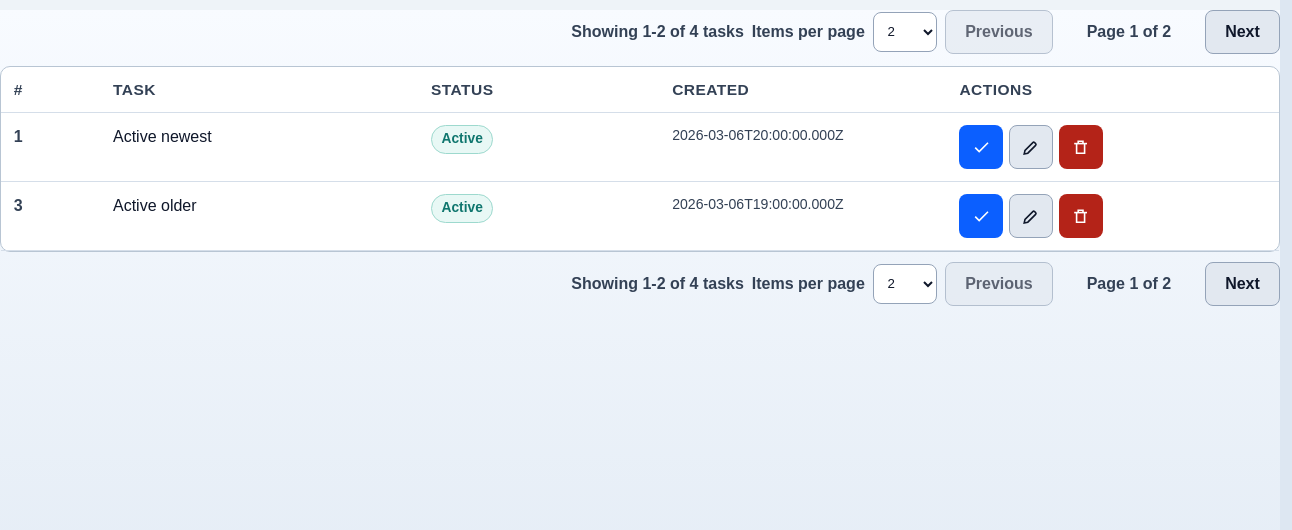
Scenario: TodoList › keeps actionable ordering deterministic within paginated results
expect the text "Active newest" is shown: met, box top-left (113, 128), bottom-right (212, 145)
expect the text "Active older" is shown: met, box top-left (113, 197), bottom-right (197, 214)
Click the button with aria-label "Next page" at point(1242, 32), box top-left (1205, 10), bottom-right (1280, 54)
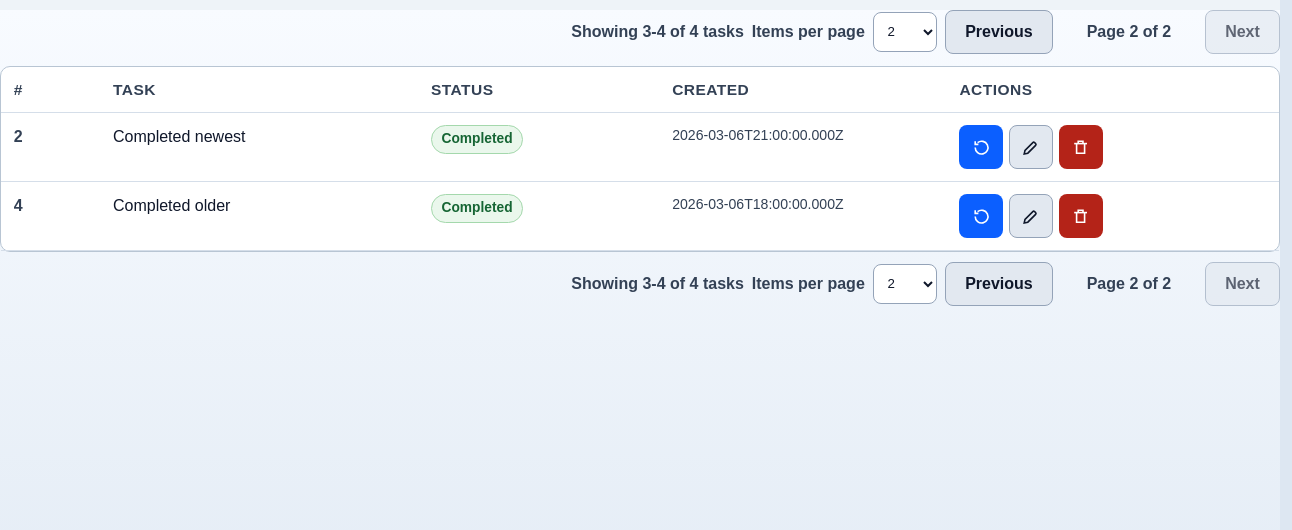
expect the text "Completed newest" is shown: met, box top-left (113, 128), bottom-right (246, 145)
expect the text "Completed older" is shown: met, box top-left (113, 197), bottom-right (230, 214)
